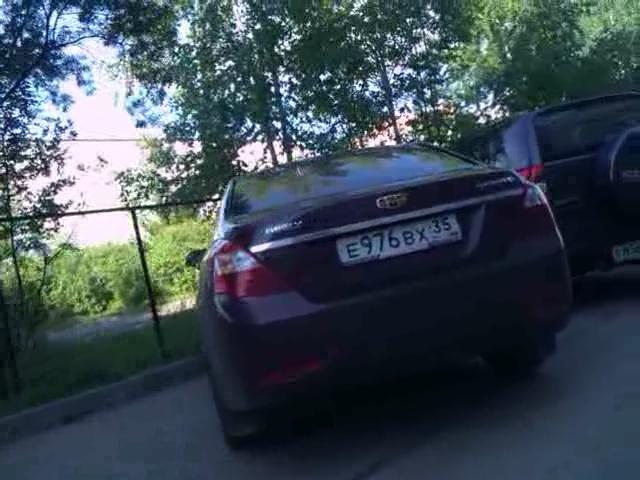car license plate: (336, 209, 459, 272), (613, 232, 639, 265)
